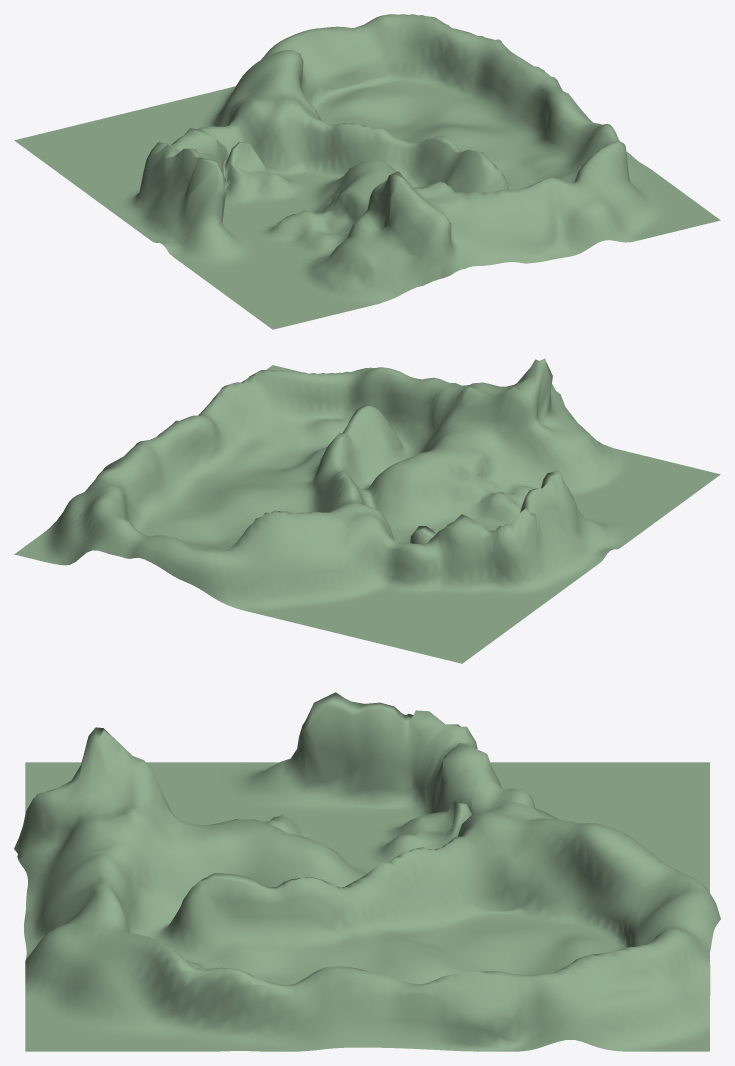
Rendered from SM_hill1.fbx.
3 renders of one model, top to bottom at view 1: azimuth 30°, elevation 25°; view 2: azimuth 150°, elevation 25°; view 3: azimuth 270°, elevation 25°, orthographic. The views are drawn at different scales.
Visible parts, largest first — view 1: hills; view 2: hills; view 3: hills.
Boxes of the visible parts, x1,y1,x2,y2 form: hills: [14, 14, 720, 329]; hills: [14, 358, 720, 663]; hills: [14, 692, 720, 1051].
Bounding box in the file's own units: 12892 × 2951 × 13311.
